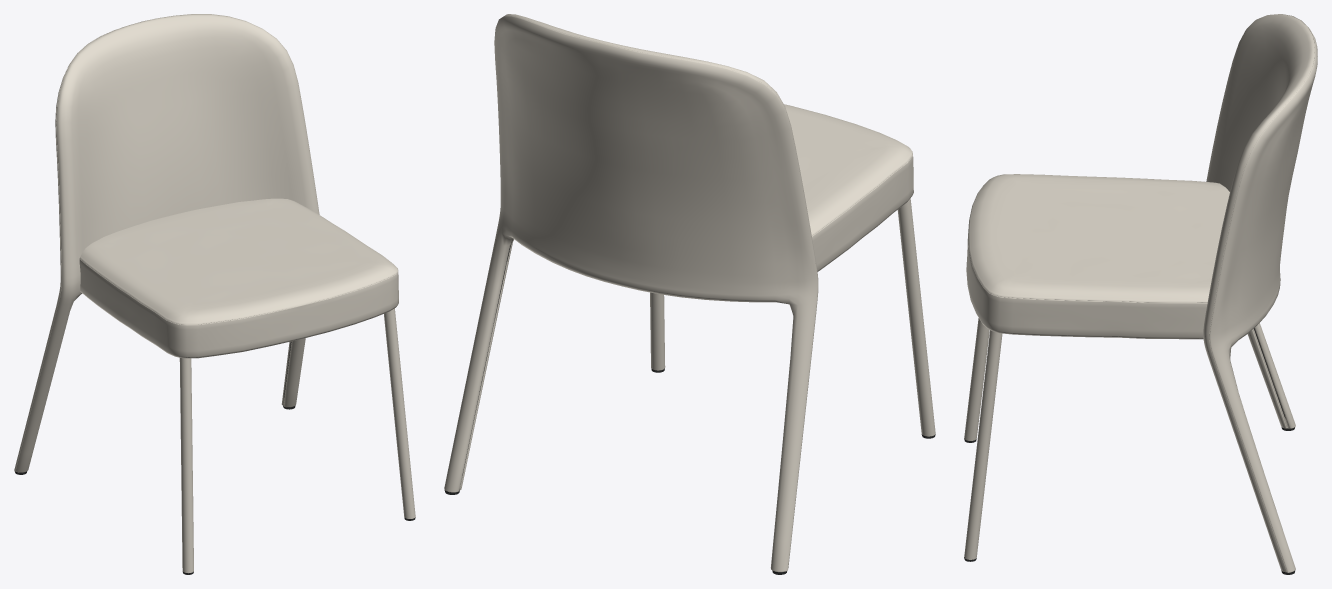
Rendered from BHID01451.glb.
3 renders of one model, left to right at view 1: azimuth 30°, elevation 25°; view 2: azimuth 150°, elevation 25°; view 3: azimuth 270°, elevation 25°, orthographic. The views are drawn at different scales.
Parts seen in each view (by area): view 1: BP_BHID01451; view 2: BP_BHID01451; view 3: BP_BHID01451.
Part boxes in pixels (<box>): BP_BHID01451: <box>14,14,415,574</box>; BP_BHID01451: <box>444,14,935,574</box>; BP_BHID01451: <box>964,14,1317,574</box>.
Bounding box in the file's own units: 0.5317 × 0.7412 × 0.5272.
Materials: 2 (1 with a texture image).
